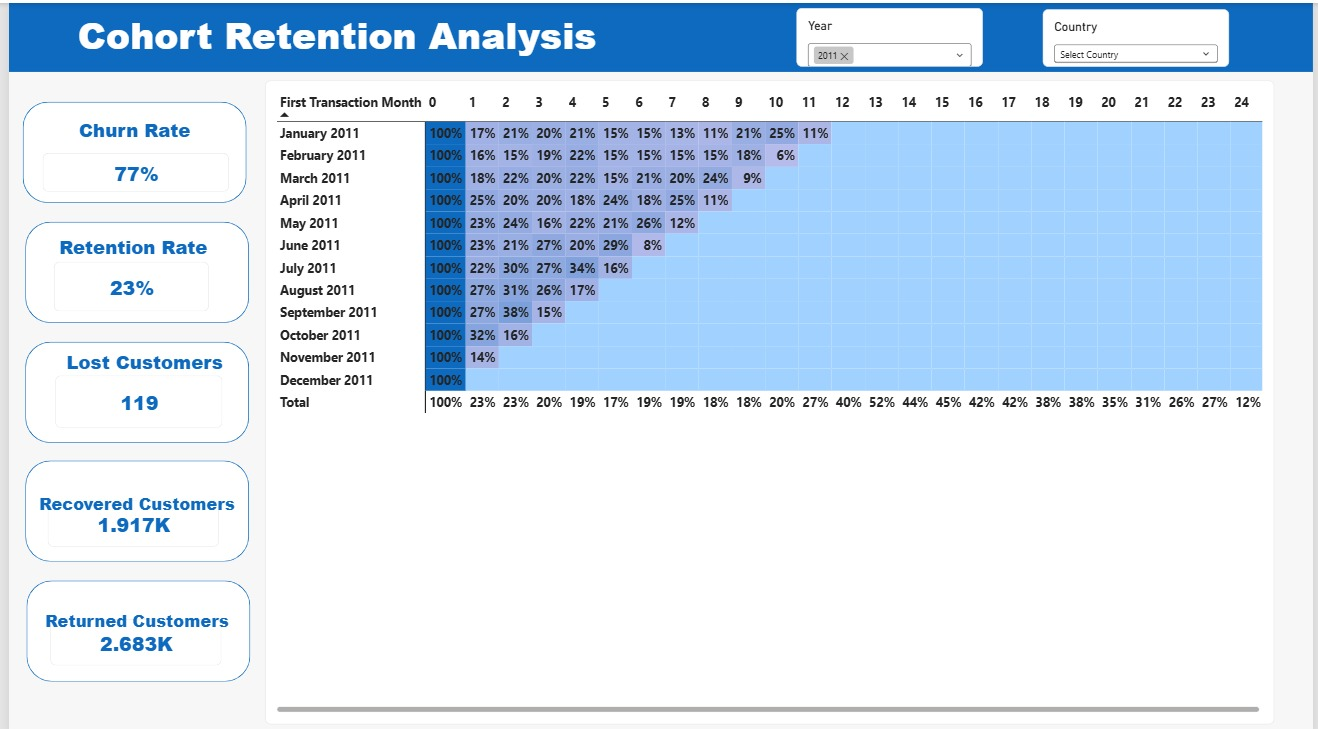

The dashboard page shown, as its layout file describes it:
{"tool":"powerbi","page":{"name":"Cohort Details","canvas":[1920,1080],"ordinal":1},"visuals":[{"type":"shape","box":[0,0,1919.6,101.2],"z":0},{"type":"textbox","box":[16.6,9.2,933.1,77.3],"z":1000},{"type":"shape","box":[21,144.7,329.4,149.1],"z":4000},{"type":"cardVisual","fields":{"Data":["_measures.Month 1 Churn %"]},"box":[50.4,220.1,274.2,57.1],"z":5000},{"type":"pivotTable","fields":{"Columns":["FactSales.Month Since First Transaction"],"Rows":["DimCustomer.First Transaction Month"],"Values":["_measures.Retention Rate"]},"box":[377.3,114.1,1485.3,947.9],"z":6000},{"type":"textbox","box":[54.1,166.7,263.2,40.5],"z":7000},{"type":"shape","box":[24.3,322.8,329.4,149.1],"z":8000},{"type":"cardVisual","fields":{"Data":["_measures.Month 1 Retention %"]},"box":[66.6,381.7,228.2,73.6],"z":9000},{"type":"textbox","box":[51.9,341.2,263.2,40.5],"z":10000},{"type":"shape","box":[24.3,499.5,329.4,149.1],"z":11000},{"type":"cardVisual","fields":{"Data":["_measures.Lost Customers"]},"box":[68.5,549.2,246.6,77.3],"z":12000},{"type":"shape","box":[24.3,674.4,329.4,149.1],"z":12001},{"type":"cardVisual","fields":{"Data":["_measures.Recovered Customers"]},"box":[57.4,733.3,252.1,68.1],"z":12002},{"type":"shape","box":[26.5,849.6,329.4,149.1],"z":12003},{"type":"cardVisual","fields":{"Data":["_measures.Returning Customers"]},"box":[62.6,923.9,252.1,68.1],"z":12004},{"type":"textbox","box":[68.8,509.1,263.2,40.5],"z":12005},{"type":"textbox","box":[7.4,719.6,362.6,40.5],"z":12006},{"type":"textbox","box":[7.4,883.4,362.6,40.5],"z":12007},{"type":"listSlicer","fields":{"Values":["DimDate.Date.Variation.Date Hierarchy.Year"]},"box":[1160.3,6.6,274.2,86.5],"z":12008},{"type":"listSlicer","fields":{"Values":["FactSales.Country"]},"box":[1522.1,9.2,274.2,84.7],"z":12009}]}

Visuals, with their boxes in screenshot pixels (x1, y1, x2, y2), scaled from the page's 1920x1080 canvas onto the 1318x729 screenshot:
shape: bbox(0, 0, 1317, 68)
textbox: bbox(11, 6, 652, 58)
shape: bbox(14, 98, 241, 198)
cardVisual - _measures.Month 1 Churn %: bbox(35, 149, 223, 187)
pivotTable - FactSales.Month Since First Transaction x DimCustomer.First Transaction Month: bbox(259, 77, 1279, 717)
textbox: bbox(37, 113, 218, 140)
shape: bbox(17, 218, 243, 319)
cardVisual - _measures.Month 1 Retention %: bbox(46, 258, 202, 307)
textbox: bbox(36, 230, 216, 258)
shape: bbox(17, 337, 243, 438)
cardVisual - _measures.Lost Customers: bbox(47, 371, 216, 423)
shape: bbox(17, 455, 243, 556)
cardVisual - _measures.Recovered Customers: bbox(39, 495, 212, 541)
shape: bbox(18, 573, 244, 674)
cardVisual - _measures.Returning Customers: bbox(43, 624, 216, 670)
textbox: bbox(47, 344, 228, 371)
textbox: bbox(5, 486, 254, 513)
textbox: bbox(5, 596, 254, 624)
listSlicer - DimDate.Date.Variation.Date Hierarchy.Year: bbox(796, 4, 985, 63)
listSlicer - FactSales.Country: bbox(1045, 6, 1233, 63)
